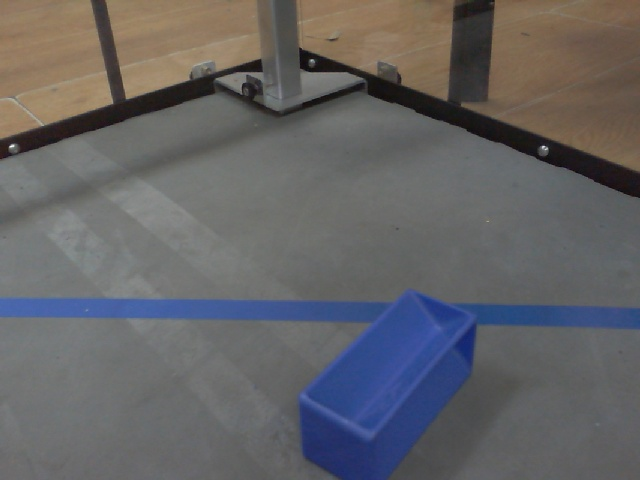BlueSample: (295, 286, 484, 480)
